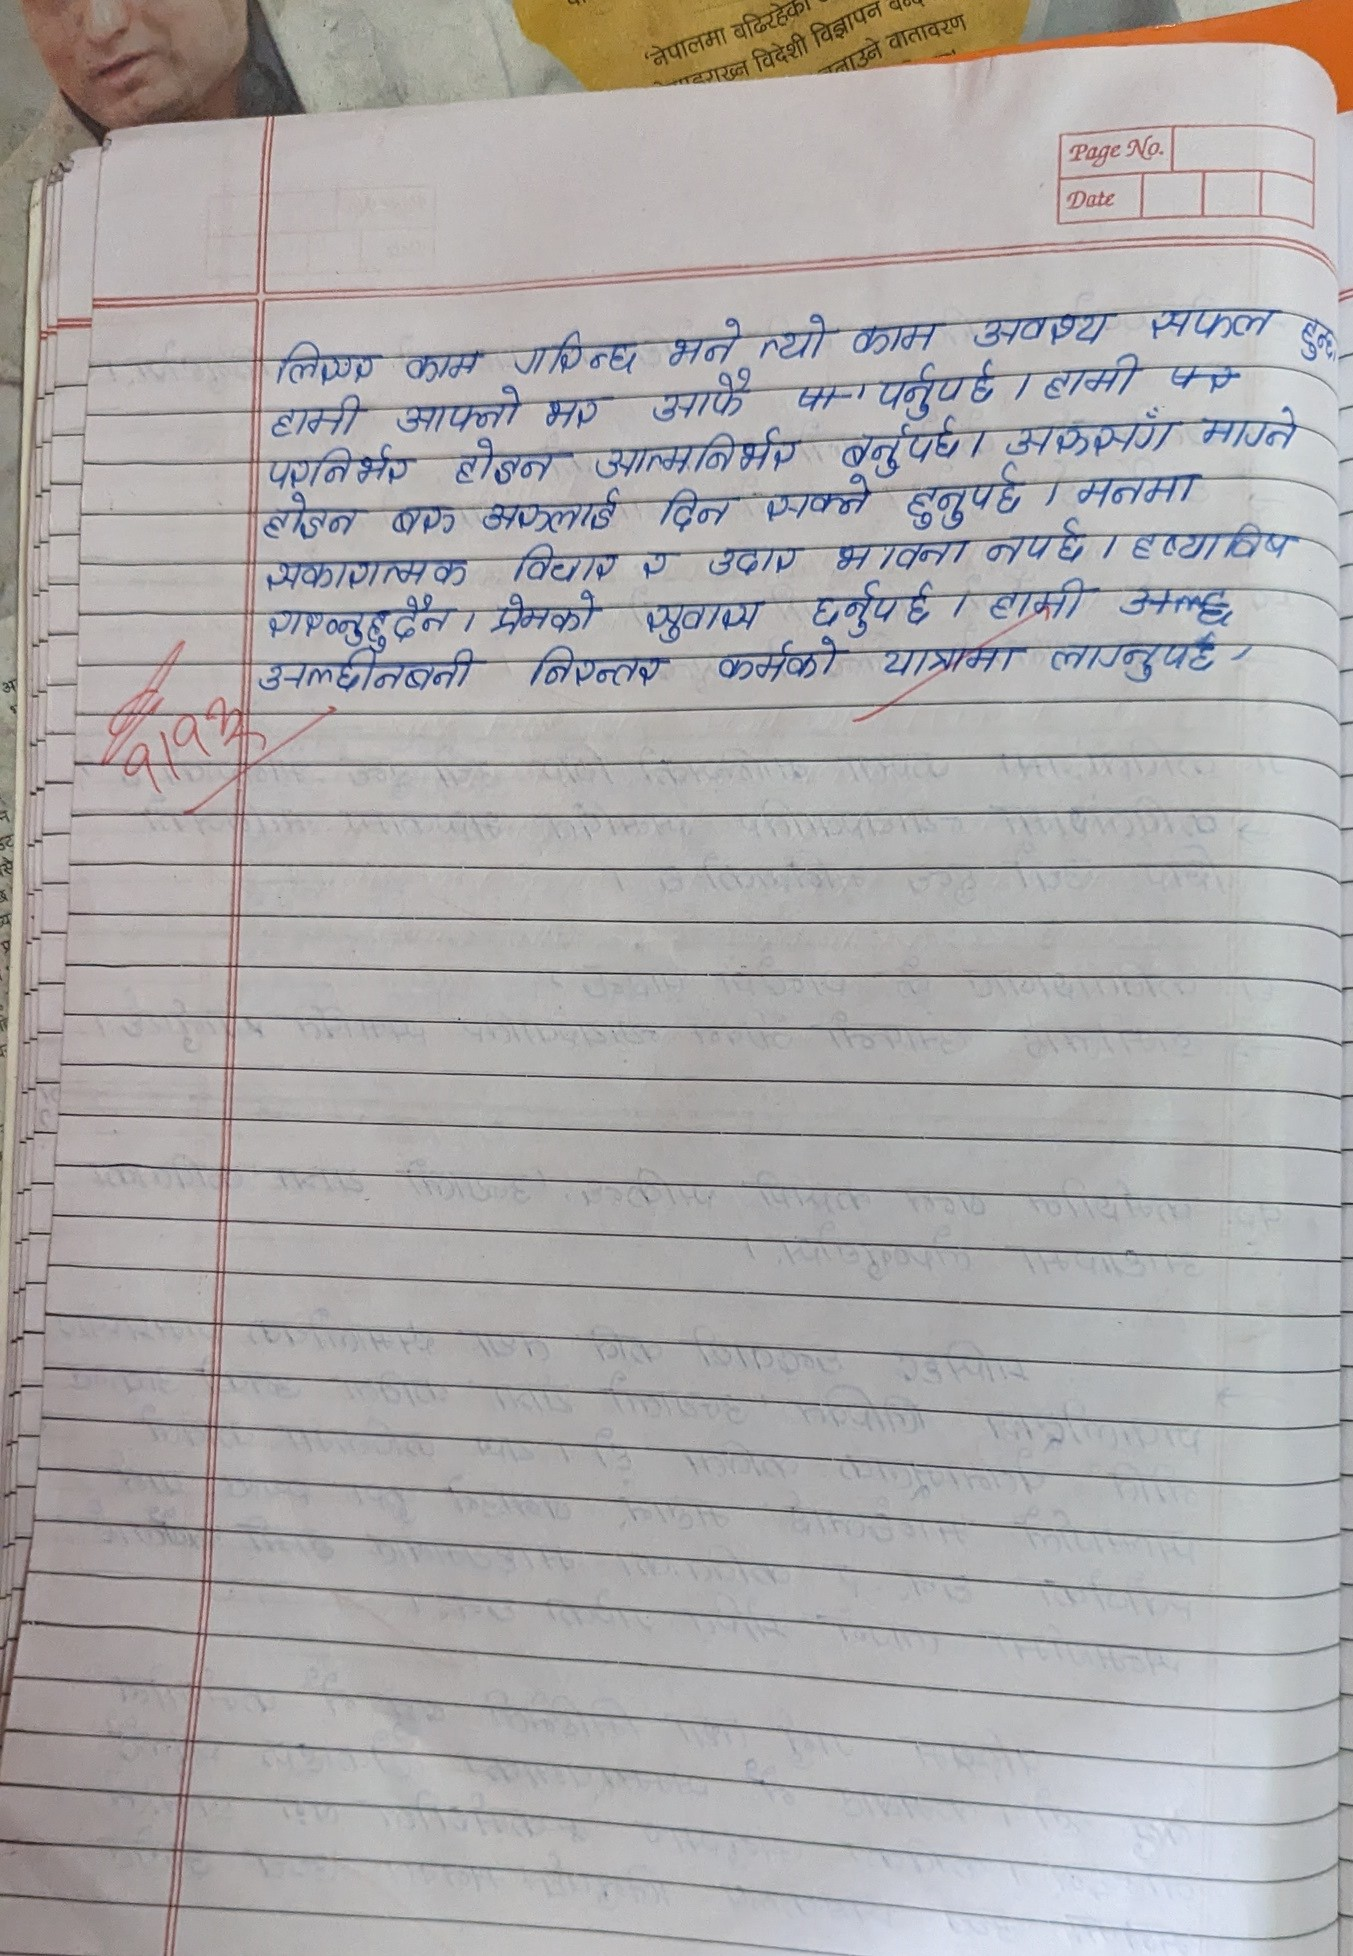text: (254, 651, 482, 696), (259, 596, 453, 645), (598, 430, 795, 474), (1047, 632, 1224, 681), (257, 553, 471, 592), (1008, 409, 1176, 455), (523, 644, 674, 693), (837, 422, 972, 476), (508, 330, 650, 380), (259, 447, 412, 493), (1127, 522, 1291, 563), (483, 489, 617, 540), (876, 363, 998, 418), (810, 580, 937, 632), (269, 336, 379, 389), (708, 639, 846, 681), (1198, 401, 1302, 456), (398, 391, 526, 435), (636, 592, 760, 638), (879, 642, 1024, 679), (908, 476, 1021, 523), (1075, 468, 1195, 510), (760, 479, 876, 522), (1146, 302, 1273, 340), (977, 309, 1108, 346), (449, 440, 558, 485), (256, 496, 360, 543), (827, 537, 978, 568), (491, 592, 599, 635), (659, 314, 746, 366), (508, 544, 621, 583), (989, 577, 1088, 620), (656, 373, 746, 419), (755, 311, 830, 366), (265, 395, 364, 435), (1038, 357, 1140, 395), (990, 526, 1082, 565), (845, 323, 938, 360), (656, 488, 730, 532), (702, 547, 801, 580), (398, 345, 485, 380), (390, 499, 458, 541), (1297, 308, 1341, 361), (546, 391, 596, 427), (639, 545, 674, 578)
